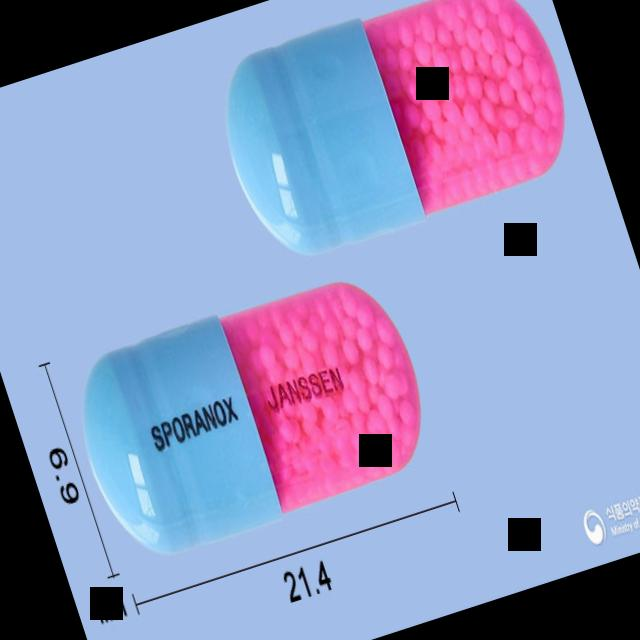Sporanox Cap: (58, 262, 446, 562)
